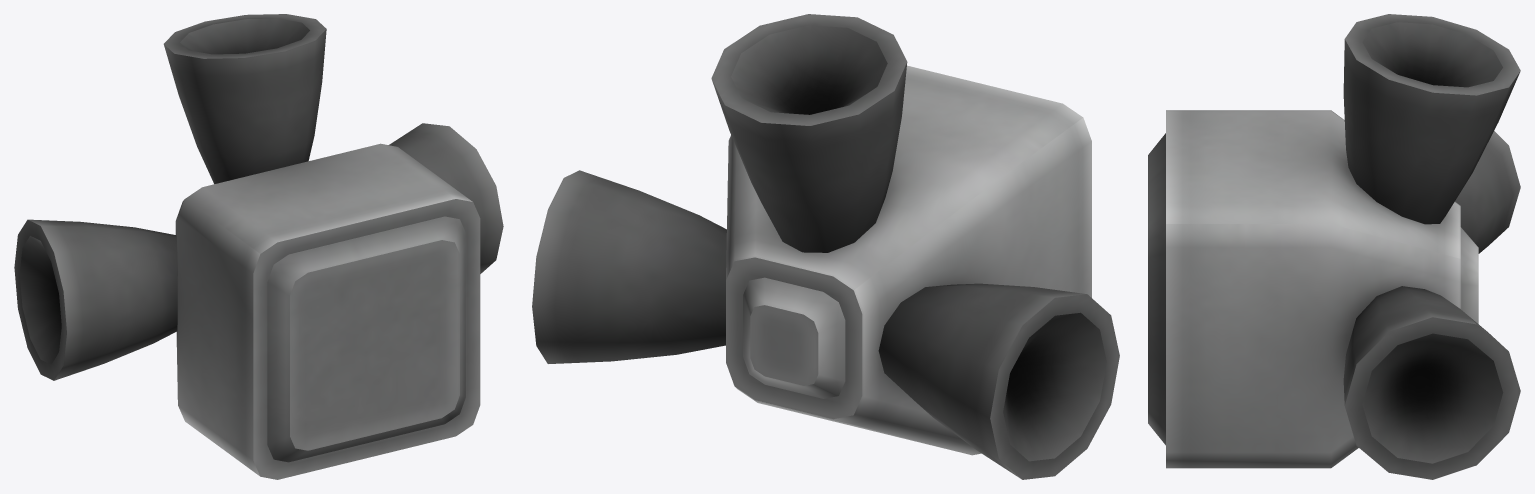
File: Tantares_RCS_2.obj
3 renders of one model, left to right at view 1: azimuth 30°, elevation 25°; view 2: azimuth 150°, elevation 25°; view 3: azimuth 270°, elevation 25°, orthographic. The views are drawn at different scales.
Visible parts, largest first — view 1: Tantares_RCS_2; view 2: Tantares_RCS_2; view 3: Tantares_RCS_2.
Part boxes in pixels (x1,y1,x2,y2): Tantares_RCS_2: [14, 14, 503, 479]; Tantares_RCS_2: [532, 14, 1119, 479]; Tantares_RCS_2: [1148, 14, 1520, 479].
Size of the model in its own units: 0.1923 by 0.1461 by 0.1297.
